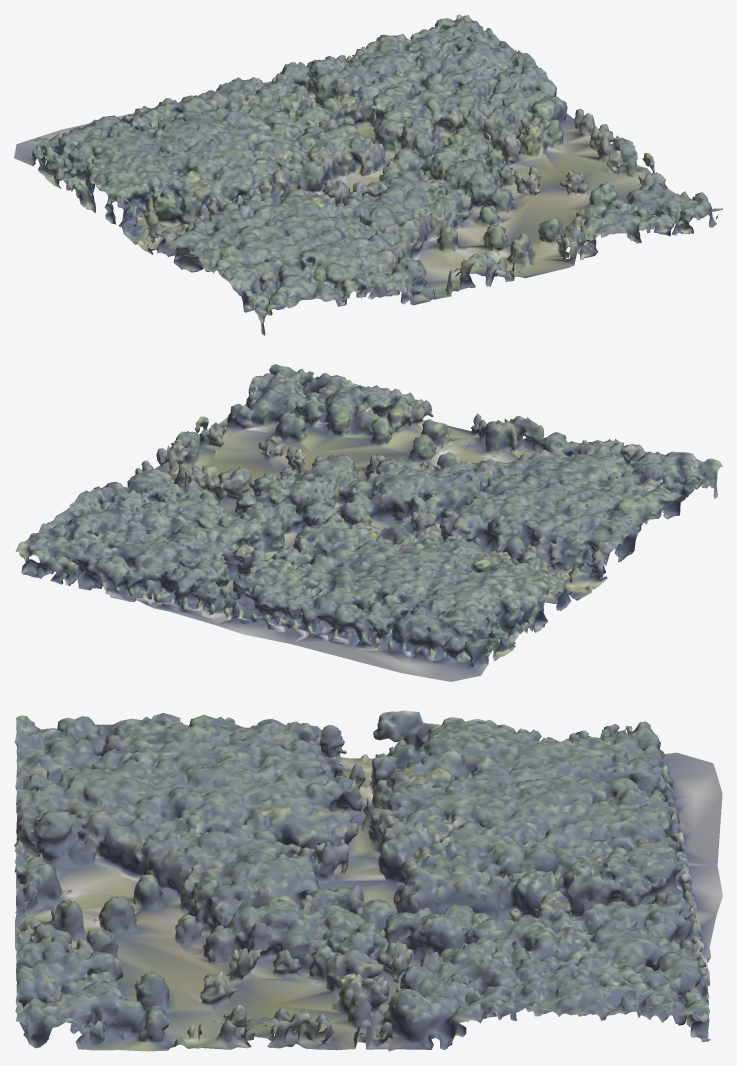
The model's file is tile-3894_58193.glb.
The picture shows the model from 3 angles, top to bottom: view 1: azimuth 30°, elevation 25°; view 2: azimuth 150°, elevation 25°; view 3: azimuth 270°, elevation 25°; orthographic projection. The views are drawn at different scales.
Parts seen in each view (by area): view 1: world; view 2: world; view 3: world.
Part boxes in pixels (left/top/right/bottom): world: left=14, top=14, right=722, bottom=335; world: left=15, top=364, right=722, bottom=681; world: left=14, top=710, right=722, bottom=1051.
Bounding box in the file's own units: 368 × 30.71 × 370.
